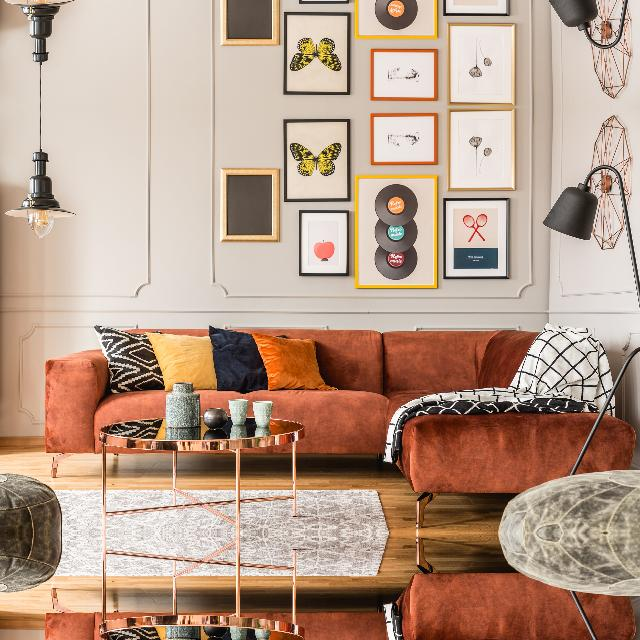couch: (42, 326, 637, 497), (42, 569, 637, 640)
pillow: (250, 332, 335, 390), (95, 324, 165, 393), (146, 332, 217, 390), (209, 324, 267, 390)
